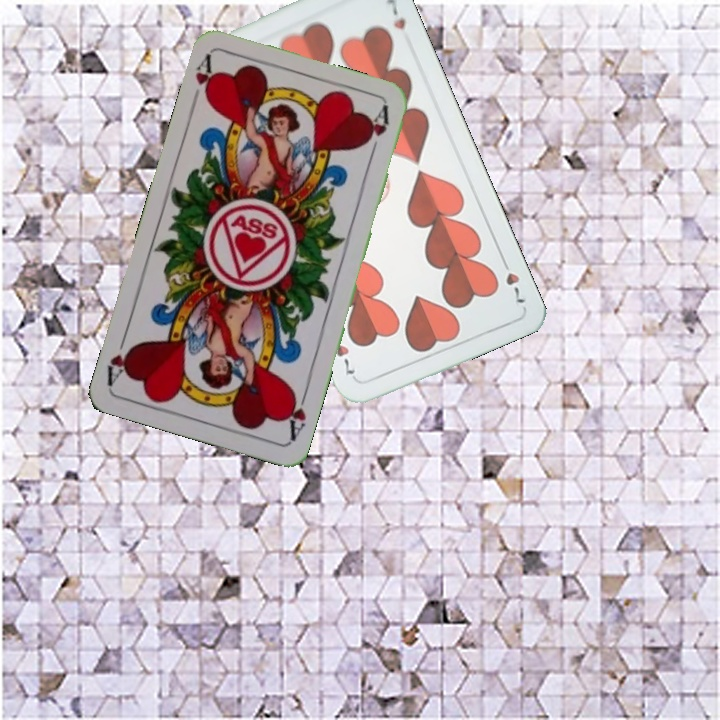H7: (497, 253, 528, 309)
HA: (187, 51, 220, 109), (281, 384, 311, 443)
